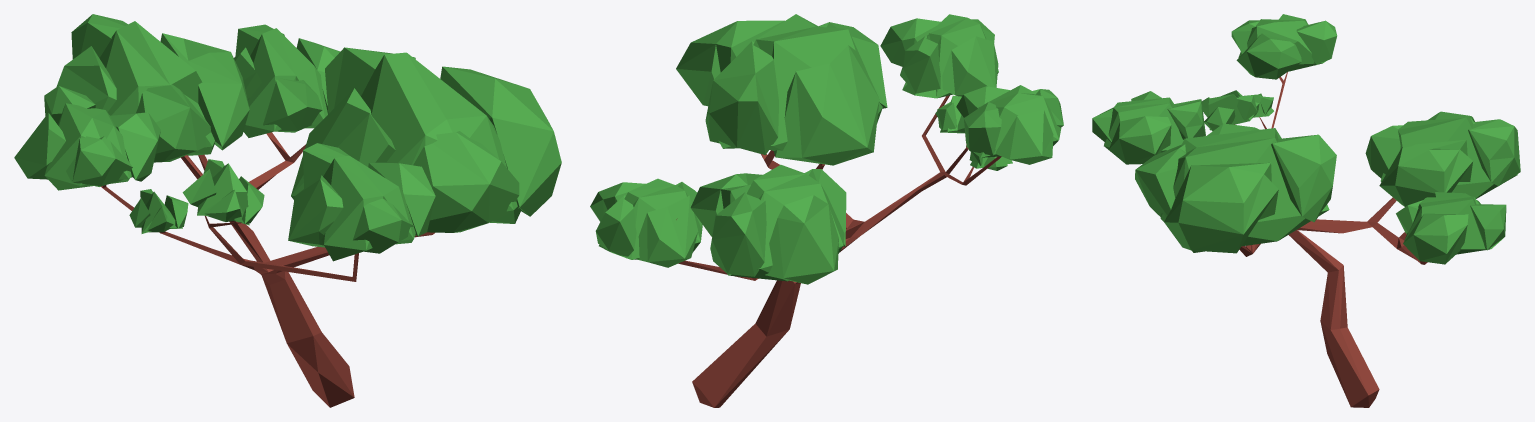
Rendered from mytree2_scaled 0.007.fbx.
3 views of the same model, side by side, from view 1: azimuth 30°, elevation 25°; view 2: azimuth 150°, elevation 25°; view 3: azimuth 270°, elevation 25° (orthographic). The views are drawn at different scales.
Parts seen in each view (by area): view 1: Icosphere.005; view 2: Icosphere.005; view 3: Icosphere.005.
Boxes of the visible parts, x1,y1,x2,y2 form: Icosphere.005: (14,14,561,407); Icosphere.005: (590,14,1063,407); Icosphere.005: (1092,14,1520,407).
Size of the model in its own units: 7.43 by 5.99 by 8.12.
